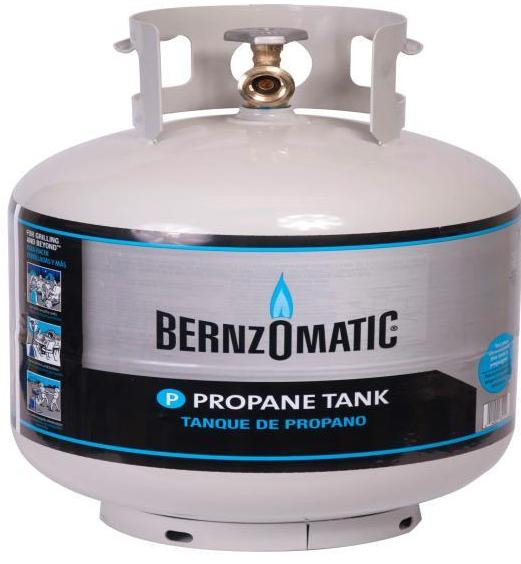cylinder: (1, 1, 521, 564)
